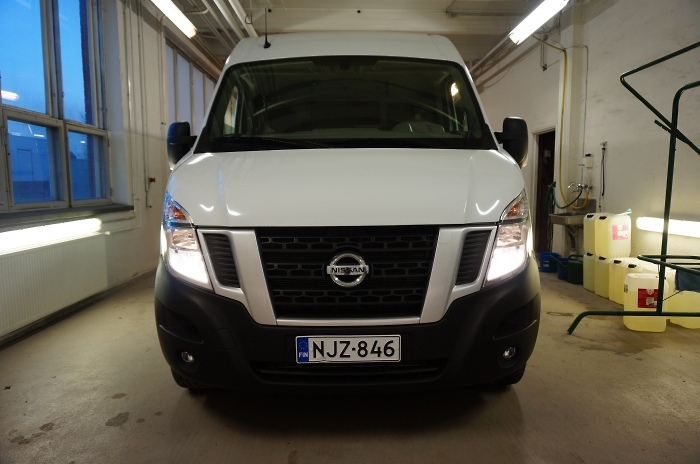license: (295, 331, 400, 363)
